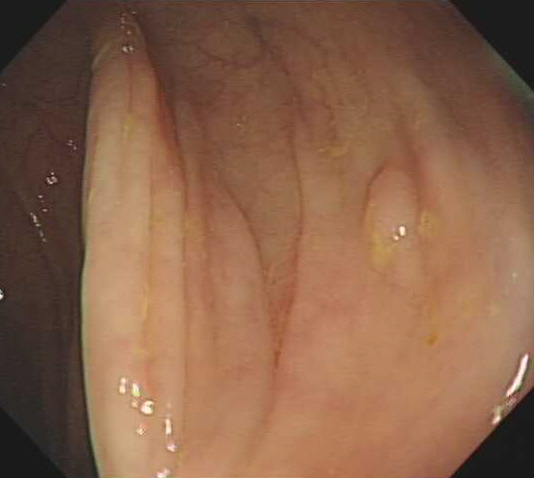adenoma: (360, 165, 428, 289)
